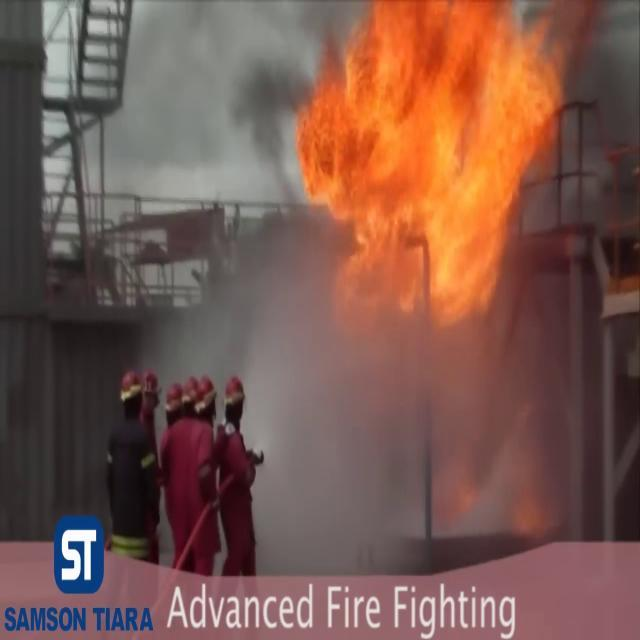Fire: (284, 2, 580, 336)
